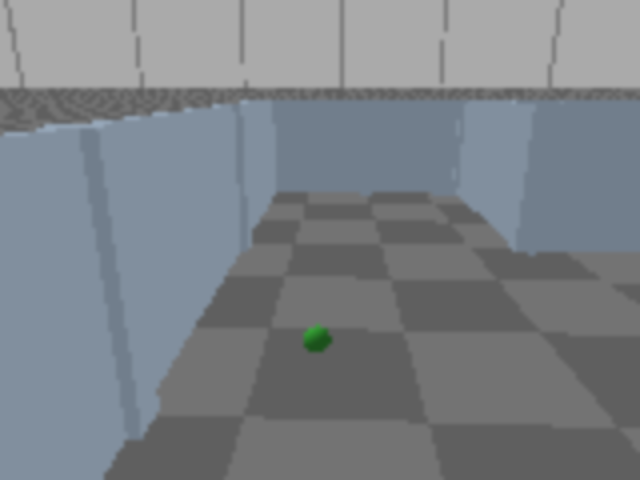puck: (301, 320, 332, 360)
